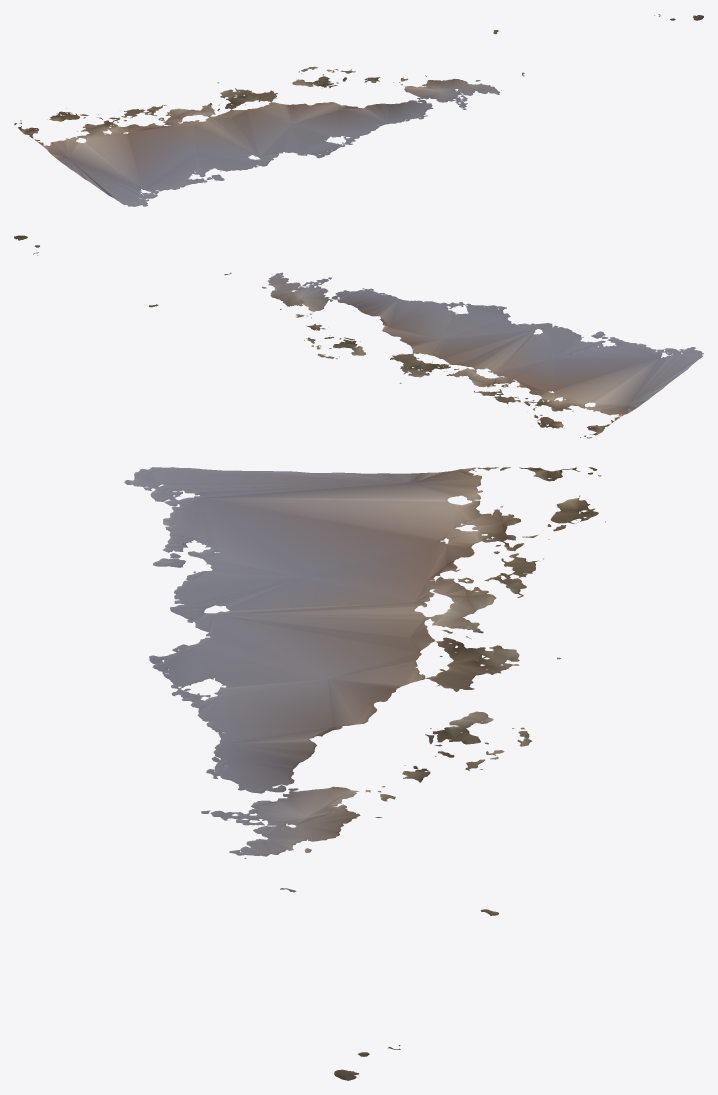
Rendered from coarse.glb.
3 views of the same model, one above another, from view 1: azimuth 30°, elevation 25°; view 2: azimuth 150°, elevation 25°; view 3: azimuth 270°, elevation 25° (orthographic). The views are drawn at different scales.
Bounding box in the file's own units: 2.5 × 0.0132 × 0.8518.
